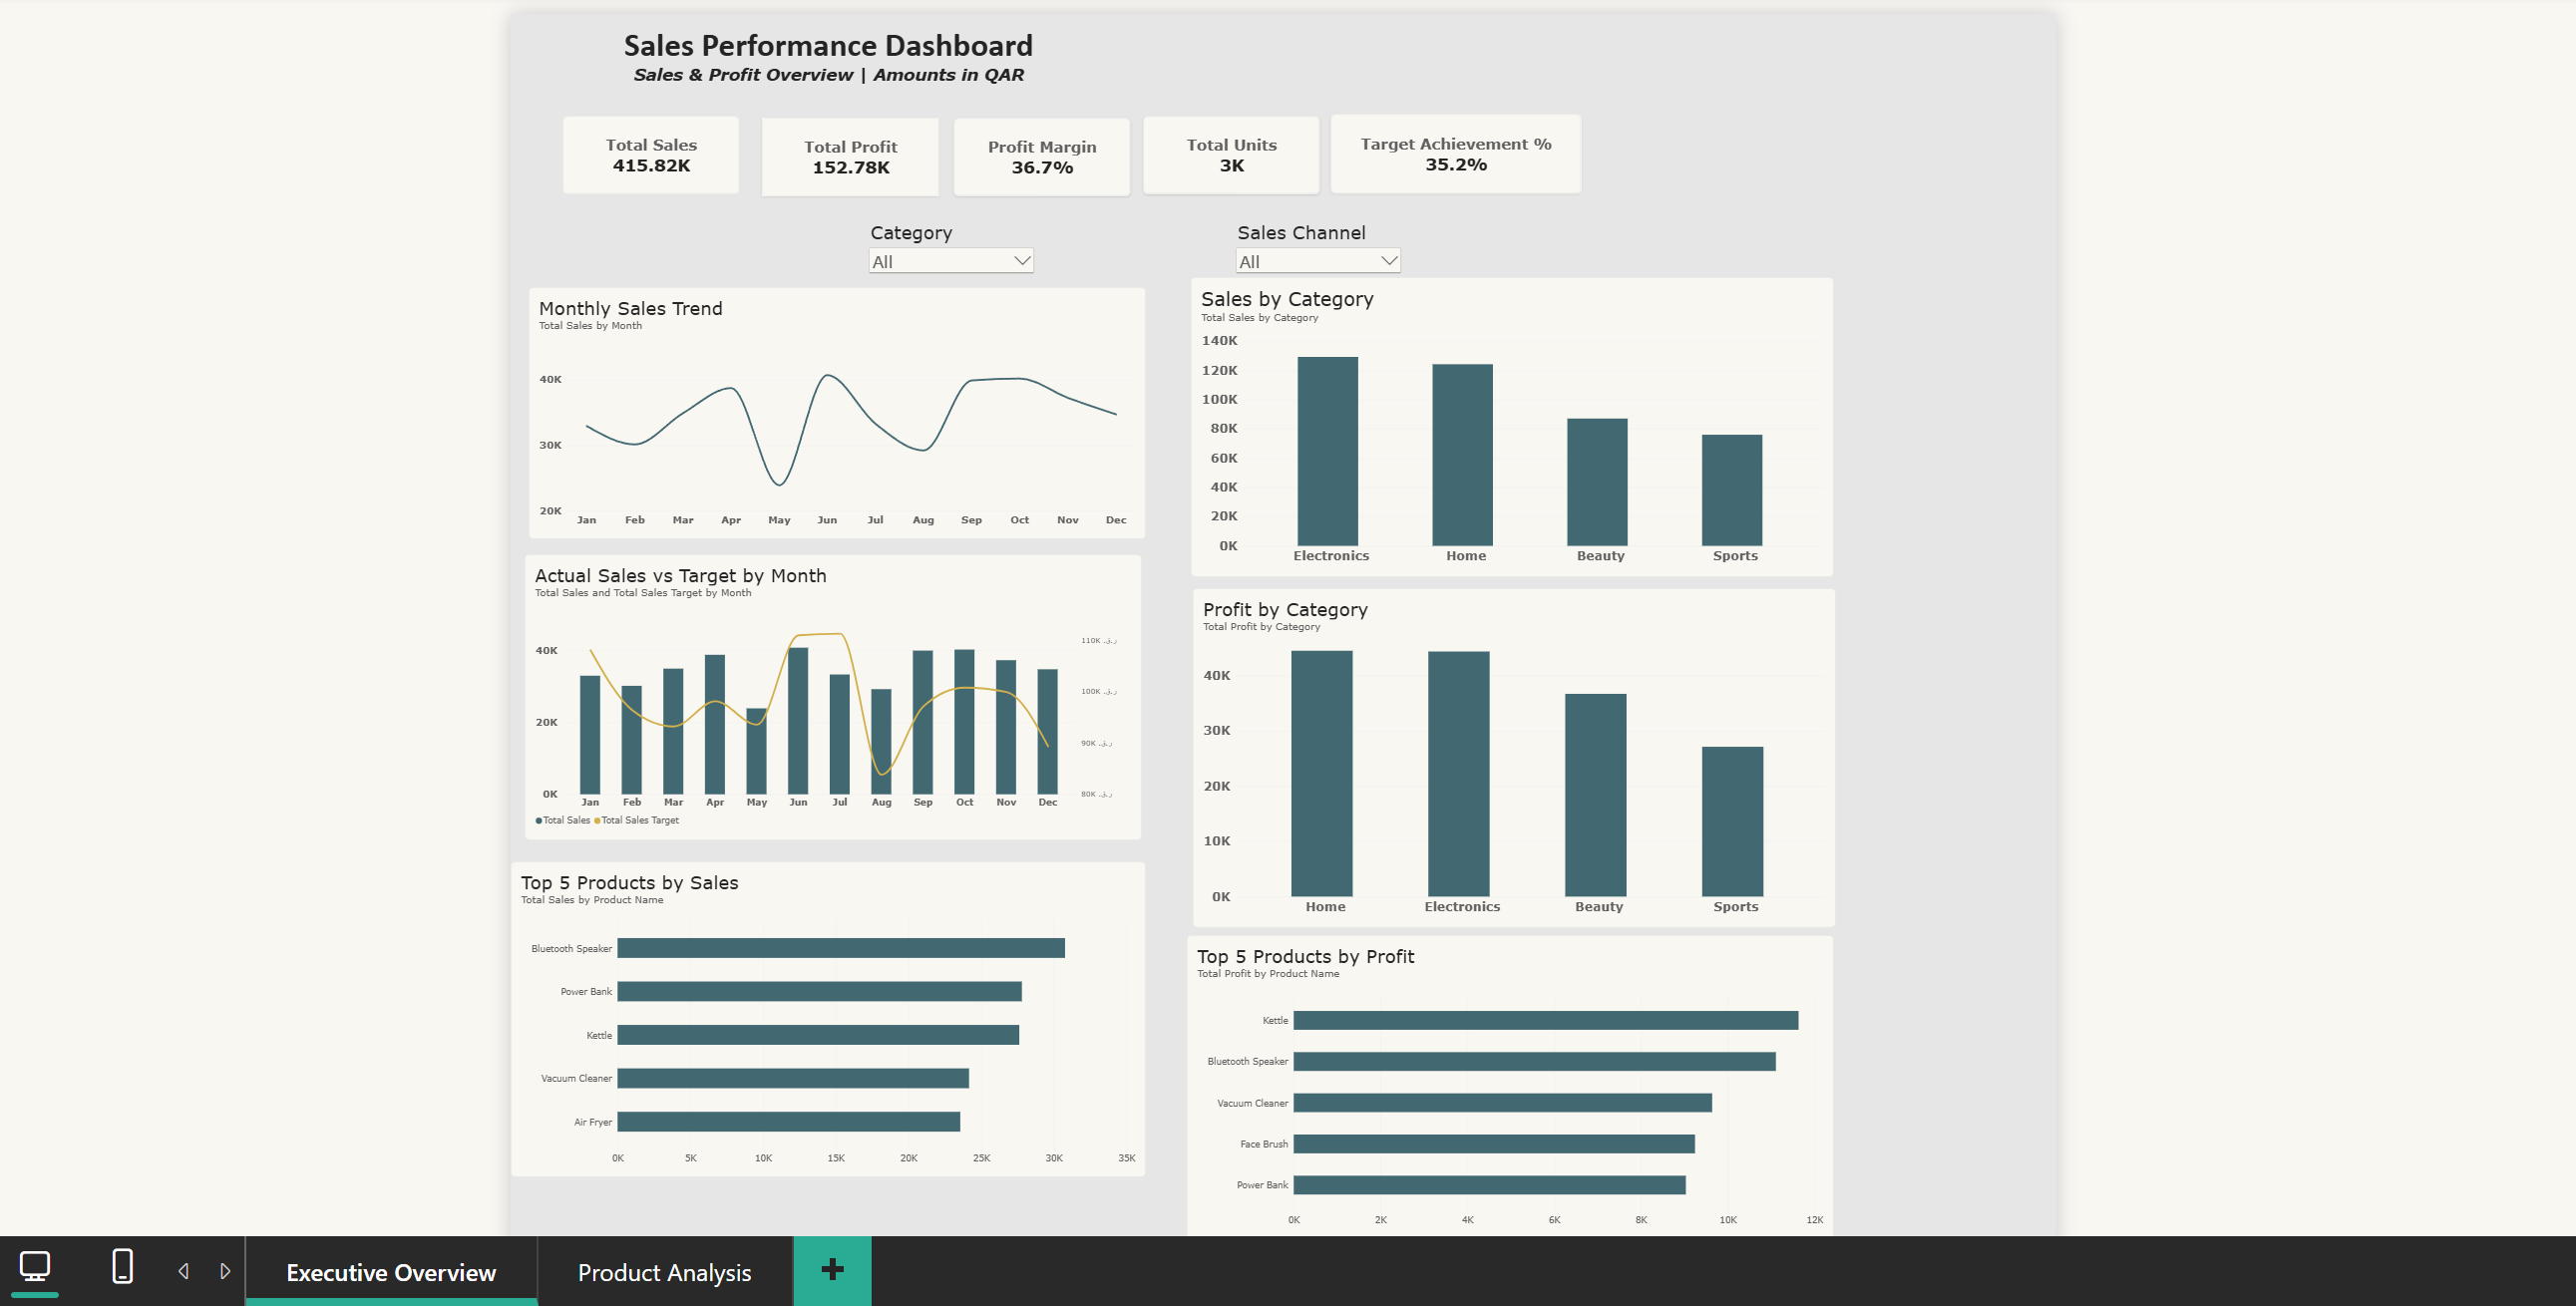

The dashboard page shown, as its layout file describes it:
{"tool":"powerbi","page":{"name":"Executive Overview","canvas":[2500,2000],"ordinal":0},"visuals":[{"type":"cardVisual","fields":{"Data":["Orders.Total Sales"]},"box":[83.5,163.7,286.5,127.6],"z":0},{"type":"cardVisual","fields":{"Data":["Orders.Total Profit"]},"box":[406.9,166.1,286.5,127.6],"z":1000},{"type":"cardVisual","fields":{"Data":["Orders.Profit Margin"]},"box":[715.1,166.1,286.5,127.6],"z":2000},{"type":"cardVisual","fields":{"Data":["Orders.Total Units"]},"box":[1023.3,163.7,286.5,127.6],"z":3000},{"type":"textbox","box":[14.4,16.9,1004,127.6],"z":4000},{"type":"lineChart","title":"Monthly Sales Trend","fields":{"Category":["Calendar.Month"],"Y":["Orders.Total Sales"]},"box":[28.9,443,998.4,407.7],"z":5000},{"type":"clusteredColumnChart","title":"Sales by Category","fields":{"Category":["Products.Category"],"Y":["Orders.Total Sales"]},"box":[1101.1,427,1040.1,484.8],"z":6000},{"type":"clusteredColumnChart","title":"Profit by Category","fields":{"Category":["Products.Category"],"Y":["Orders.Total Profit"]},"box":[1104.3,927.8,1040.1,549],"z":7000},{"type":"slicer","title":"Category","fields":{"Values":["Products.Category"]},"box":[575.4,334.7,277.9,271],"z":8000},{"type":"slicer","fields":{"Values":["Orders.Sales Channel"]},"box":[1167.7,334.7,277.9,215.9],"z":9000},{"type":"cardVisual","fields":{"Data":["Monthly Targets.Target Achievement %"]},"box":[1324.2,161.3,406.9,130],"z":10000},{"type":"lineClusteredColumnComboChart","title":"Actual Sales vs Target by Month","fields":{"Category":["Calendar.Month"],"Y":["Orders.Total Sales"],"Y2":["Monthly Targets.Total Sales Target"]},"box":[22.5,873.2,998.4,462.3],"z":11000},{"type":"clusteredBarChart","title":"Top 5 Products by Sales","fields":{"Category":["Products.Product Name"],"Y":["Orders.Total Sales"]},"box":[0,1370.8,1027.3,510.4],"z":11001},{"type":"clusteredBarChart","title":"Top 5 Products by Profit","fields":{"Category":["Products.Product Name"],"Y":["Orders.Total Profit"]},"box":[1094.7,1489.6,1046.5,491.2],"z":11002}]}

Visuals, with their boxes on the page's 2500x2000 design canvas (x1, y1, x2, y2). These are canvas units, not pixel positions in the 2576x1306 screenshot, which may show the page scaled, cropped or inside an application window:
cardVisual - Orders.Total Sales: <bbox>84, 164, 370, 291</bbox>
cardVisual - Orders.Total Profit: <bbox>407, 166, 693, 294</bbox>
cardVisual - Orders.Profit Margin: <bbox>715, 166, 1002, 294</bbox>
cardVisual - Orders.Total Units: <bbox>1023, 164, 1310, 291</bbox>
textbox: <bbox>14, 17, 1018, 144</bbox>
"Monthly Sales Trend" lineChart: <bbox>29, 443, 1027, 851</bbox>
"Sales by Category" clusteredColumnChart: <bbox>1101, 427, 2141, 912</bbox>
"Profit by Category" clusteredColumnChart: <bbox>1104, 928, 2144, 1477</bbox>
"Category" slicer: <bbox>575, 335, 853, 606</bbox>
slicer - Orders.Sales Channel: <bbox>1168, 335, 1446, 551</bbox>
cardVisual - Monthly Targets.Target Achievement %: <bbox>1324, 161, 1731, 291</bbox>
"Actual Sales vs Target by Month" lineClusteredColumnComboChart: <bbox>22, 873, 1021, 1336</bbox>
"Top 5 Products by Sales" clusteredBarChart: <bbox>0, 1371, 1027, 1881</bbox>
"Top 5 Products by Profit" clusteredBarChart: <bbox>1095, 1490, 2141, 1981</bbox>
